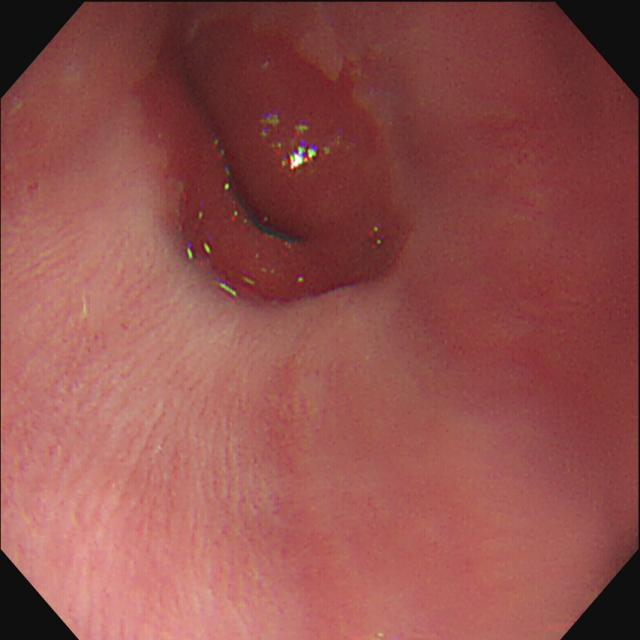I: (110, 44, 420, 316)
U: (289, 143, 317, 171)
